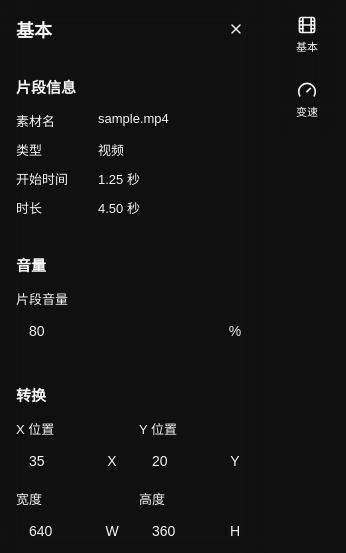
Test case: FloatingInspector › keeps range input changes local until one pointer gesture commits
The image size is (346, 553).
Step 1. Click the button "变速" → click(307, 100), box [281,70,333,130]
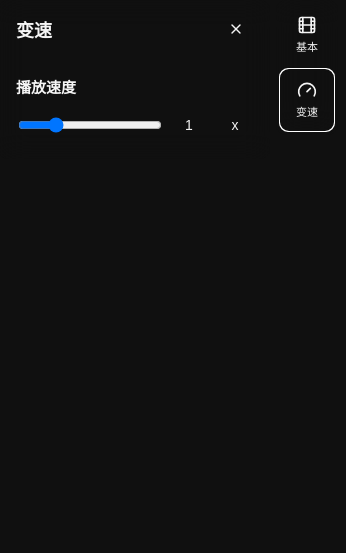
Step 2. Press the mouse on the slider named "播放速度滑块" → (90, 125), box [18,116,162,134]
Step 3. Set the slider named "播放速度滑块" to "2" → (88, 125), box [18,116,162,134]
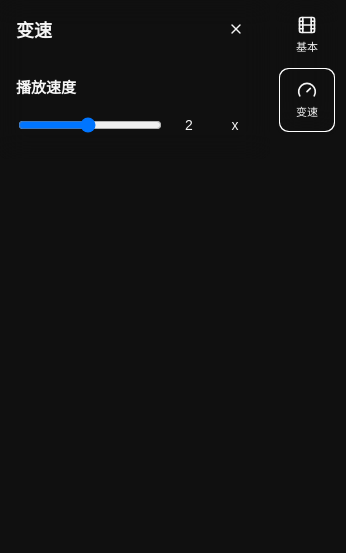
Expected: the number field named "播放速度" holds "2", [173,110,219,140]
